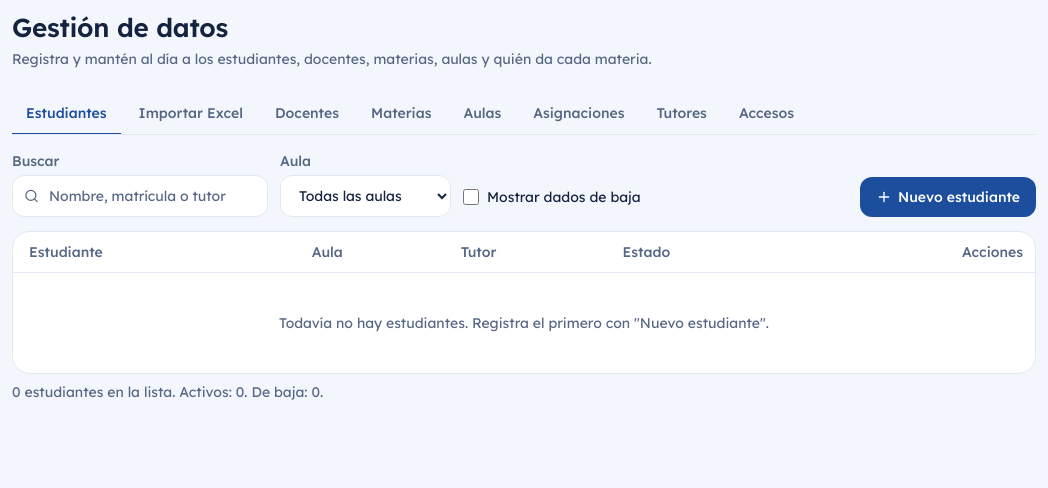
Scenario: Docentes › muestra los activos con sus clases y su aula guía, y oculta las bajas
The width and height of the screenshot is (1048, 488).
Click the tab "Docentes" at (307, 114), box [261, 92, 353, 134]
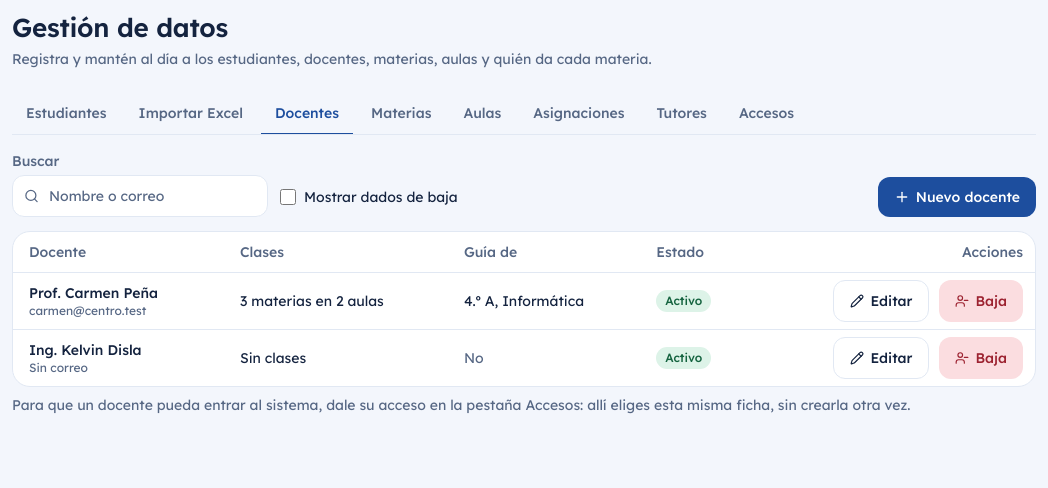
expect the text "Prof. Carmen Peña" is shown: met, box [29, 284, 158, 302]
expect the text "3 materias en 2 aulas" is shown: met, box [228, 272, 452, 329]
expect the text "4.º A, Informática" is shown: met, box [452, 272, 644, 329]
Click the checkbox labelled "Mostrar dados de baja" at (288, 196), box [280, 188, 296, 204]
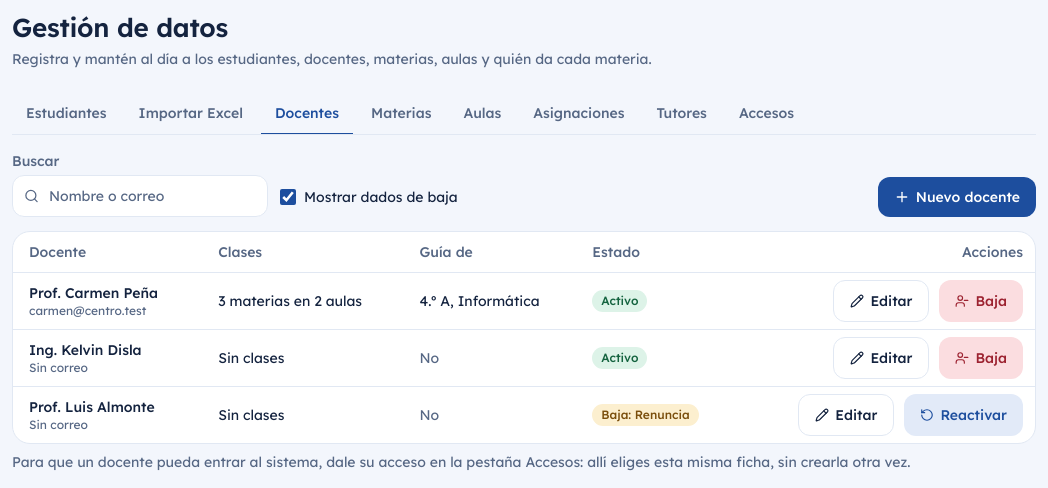
expect the text "Prof. Luis Almonte" is shown: met, box [29, 398, 155, 416]
expect the text "Baja: Renuncia" is shown: met, box [592, 404, 699, 426]
